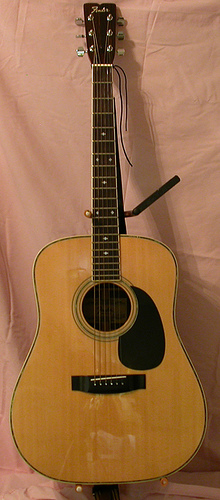guitar: (9, 2, 209, 487)
